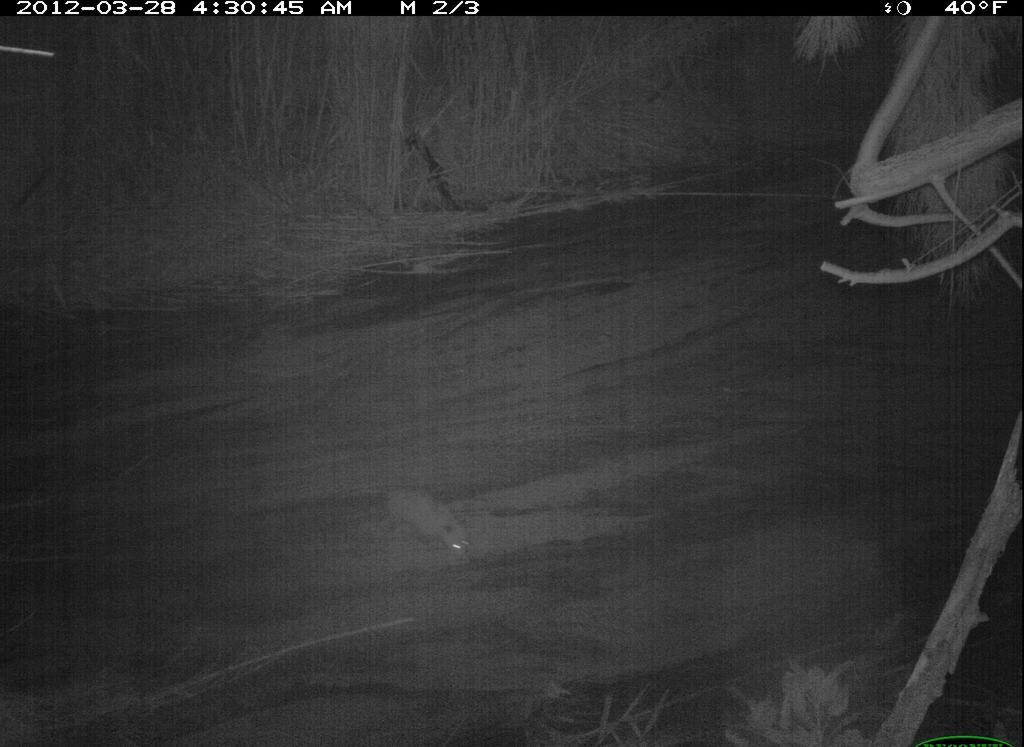opossum: (361, 464, 475, 561)
